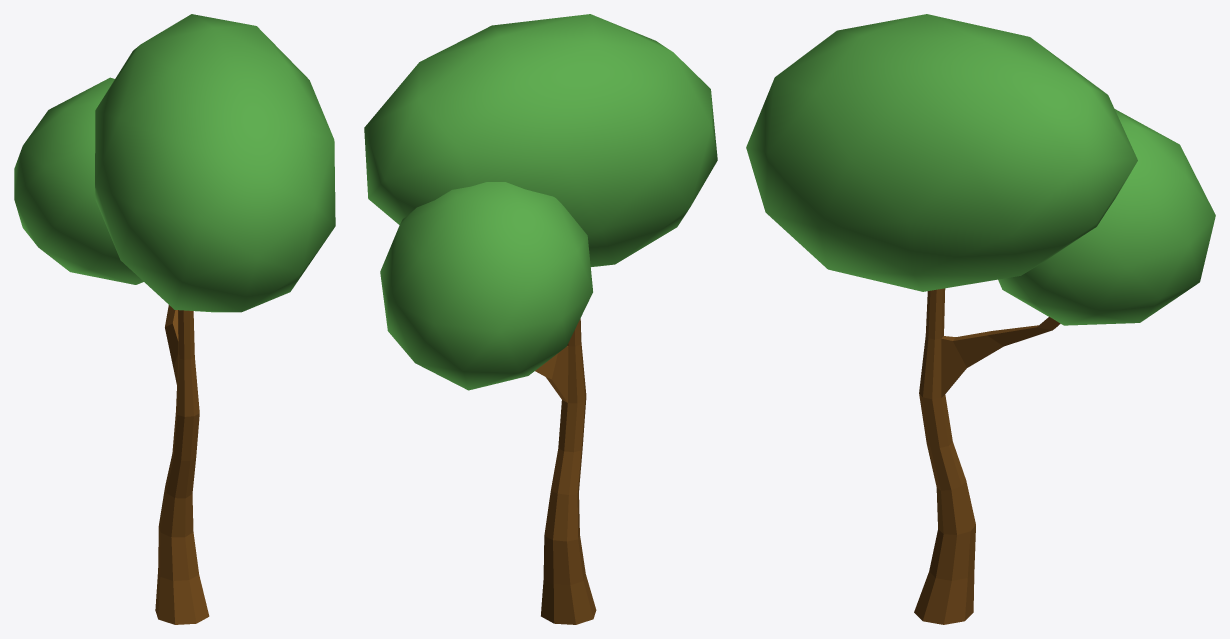
The model's file is Tree1.fbx.
3 views of the same model, side by side, from view 1: azimuth 30°, elevation 25°; view 2: azimuth 150°, elevation 25°; view 3: azimuth 270°, elevation 25° (orthographic). The views are drawn at different scales.
Visible parts, largest first — view 1: Tree; view 2: Tree; view 3: Tree.
Part boxes in pixels (x1=…): Tree: x1=14, y1=14, x2=335, y2=624; Tree: x1=364, y1=14, x2=717, y2=624; Tree: x1=746, y1=14, x2=1215, y2=624.
Bounding box in the file's own units: 1294 × 2075 × 2913.
1 material, 1 textured.
